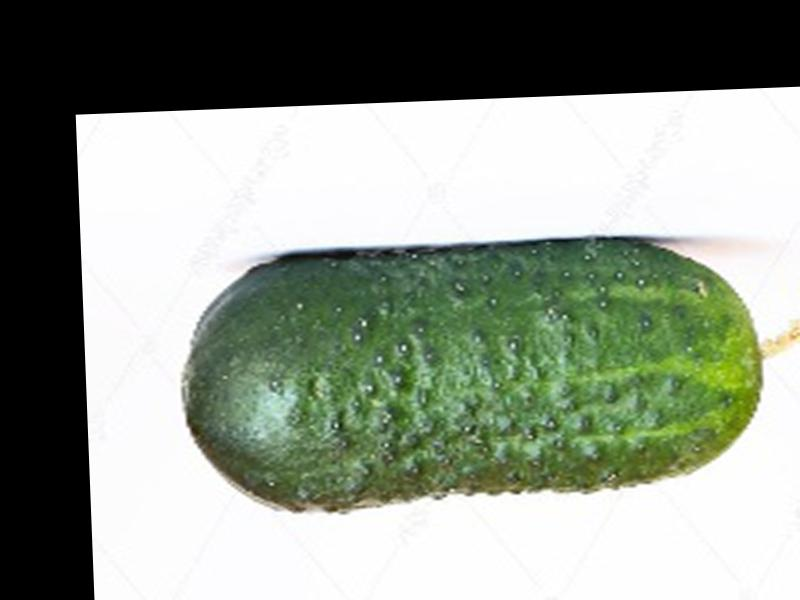Cucumber: (183, 233, 800, 514)
